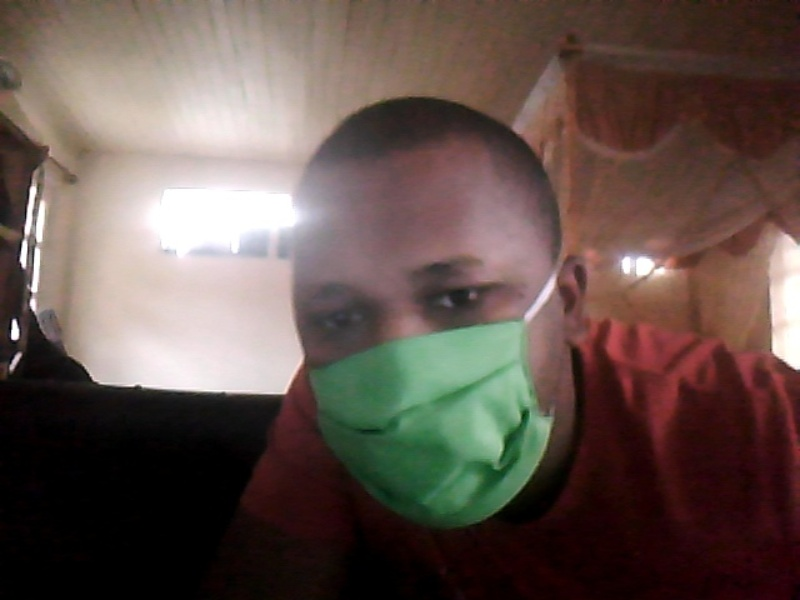ManaoArotava: (257, 127, 608, 568)
